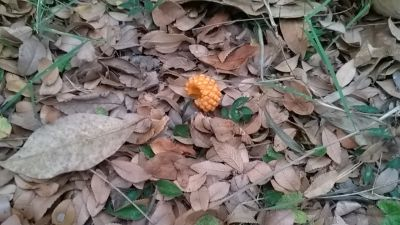eggs: (185, 73, 222, 111)
